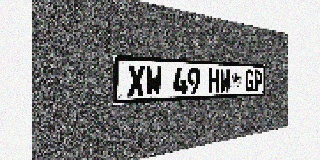4: (174, 67, 187, 95)
9: (188, 67, 200, 94)
G: (245, 70, 254, 92)
H: (209, 68, 220, 93)
P: (254, 70, 262, 91)
W: (146, 66, 162, 96), (220, 69, 230, 93)
X: (127, 65, 145, 97)
